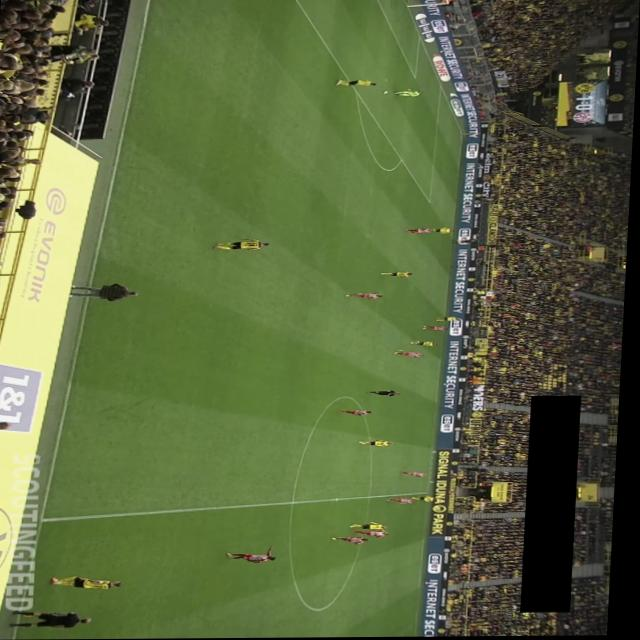goalkeeper: (393, 90, 424, 97)
player: (56, 576, 130, 591), (231, 546, 283, 564), (215, 239, 271, 252), (354, 522, 393, 532), (335, 80, 378, 88), (336, 537, 374, 545), (357, 531, 395, 539), (362, 440, 398, 448), (397, 350, 428, 359), (348, 293, 386, 300), (382, 272, 416, 279), (341, 411, 376, 417), (391, 498, 420, 505), (413, 341, 441, 348), (414, 497, 443, 503), (405, 472, 432, 478), (424, 326, 451, 332), (407, 229, 437, 234), (433, 228, 456, 234), (438, 318, 462, 322)
referee: (15, 610, 98, 629), (372, 391, 404, 398), (453, 240, 477, 245)
